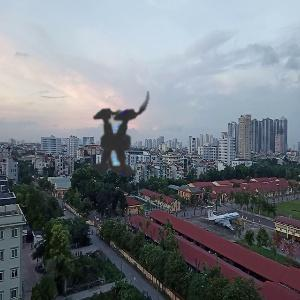drone: (30, 62, 200, 232)
